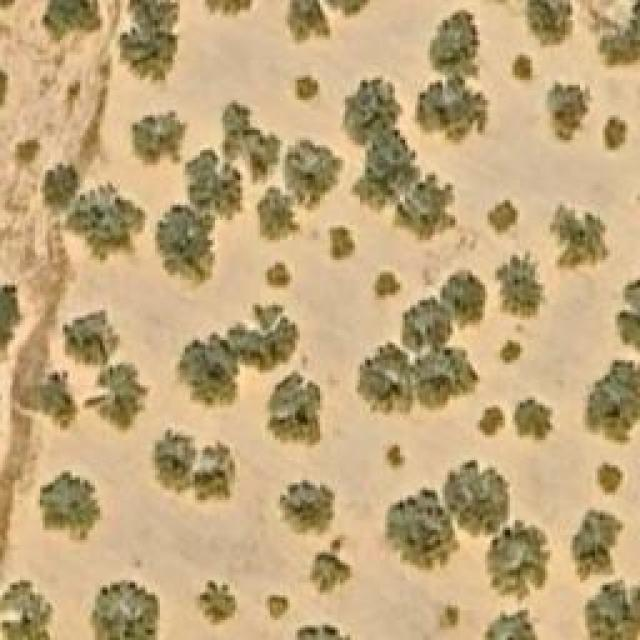Tree: (388, 488, 461, 568), (348, 133, 421, 205), (220, 303, 299, 369), (448, 460, 511, 538), (585, 360, 640, 448), (38, 473, 103, 543), (485, 528, 550, 598), (265, 372, 323, 450), (550, 202, 613, 270), (152, 205, 210, 278), (73, 185, 133, 255), (93, 357, 148, 431), (90, 582, 160, 640), (573, 508, 626, 581), (220, 128, 286, 184), (495, 252, 548, 320), (277, 478, 335, 538), (420, 80, 480, 138), (582, 580, 640, 640), (122, 25, 180, 83), (415, 348, 475, 403), (182, 337, 230, 405), (130, 113, 188, 168), (0, 580, 52, 640), (393, 180, 446, 238), (25, 370, 80, 425), (545, 80, 593, 143), (345, 83, 393, 146), (513, 0, 573, 50), (285, 143, 333, 203), (152, 430, 197, 494), (190, 155, 235, 215), (39, 0, 102, 42), (195, 445, 240, 503), (430, 15, 475, 70), (365, 350, 405, 408), (65, 318, 113, 363), (595, 20, 640, 68), (400, 303, 448, 346), (193, 580, 238, 625), (312, 538, 350, 591), (615, 277, 640, 355), (448, 270, 483, 325), (513, 398, 556, 441), (288, 0, 331, 40), (258, 187, 293, 235), (0, 277, 22, 350), (483, 610, 536, 640), (45, 165, 78, 210), (10, 130, 45, 169), (130, 0, 184, 25), (488, 197, 518, 235), (602, 115, 630, 155), (220, 103, 254, 134), (285, 625, 355, 640), (595, 460, 623, 495), (327, 228, 355, 261), (373, 270, 403, 300), (195, 0, 255, 15), (477, 408, 505, 438), (295, 75, 320, 108), (268, 262, 293, 290), (500, 337, 523, 365), (265, 592, 288, 620), (513, 53, 533, 83), (440, 608, 458, 628), (388, 445, 403, 468)
